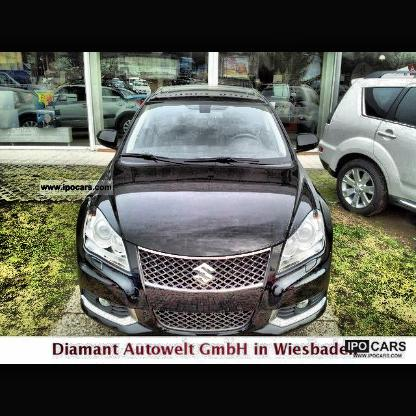Suzuki Kizashi Sedan 2012: (77, 87, 334, 337)
